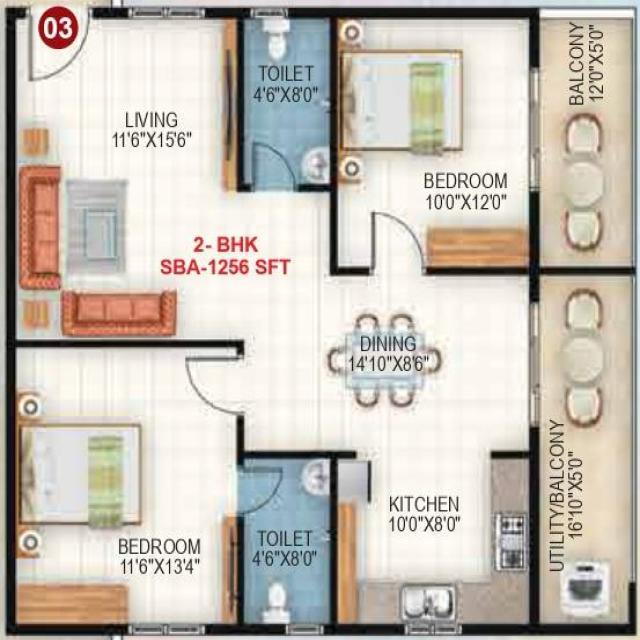Balcony-Sitout: (538, 14, 634, 269)
Bedroom: (336, 15, 531, 271)
Bedroom with Toilet: (11, 342, 333, 627)
Dining: (322, 313, 443, 411)
Enterance-Foyer: (23, 0, 94, 86)
Kitchen: (336, 454, 532, 626)
Living: (13, 16, 241, 340)
Toilet: (240, 456, 333, 627), (242, 15, 333, 186)
Utility: (537, 273, 631, 626)
